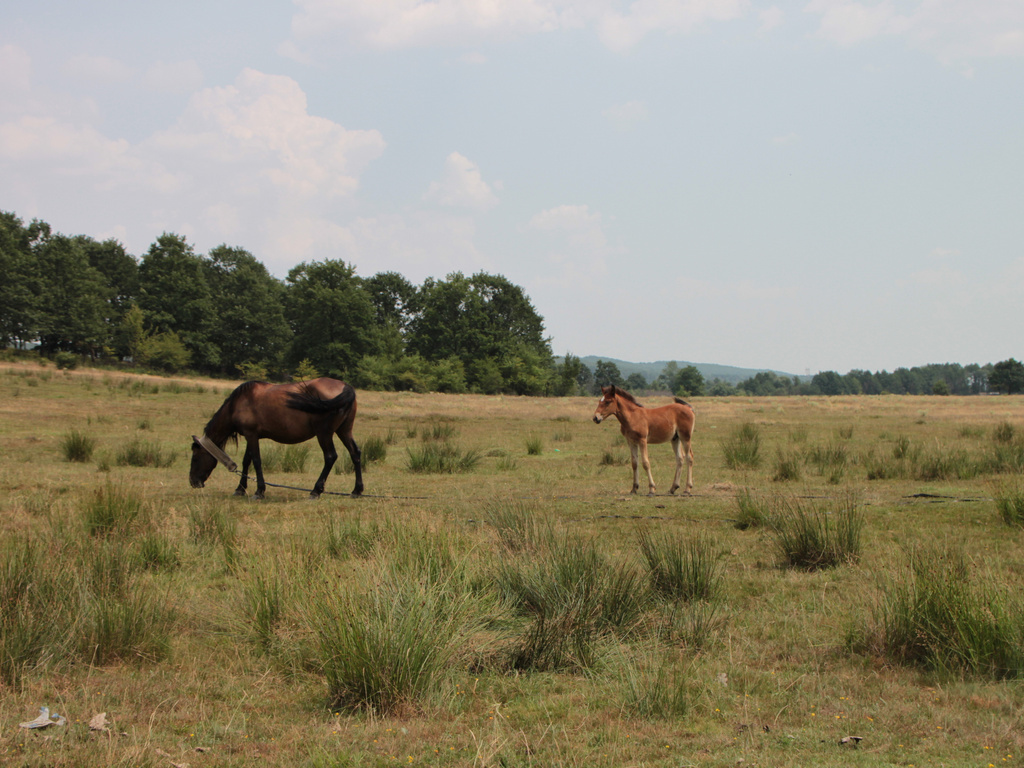horse: (588, 383, 696, 498)
